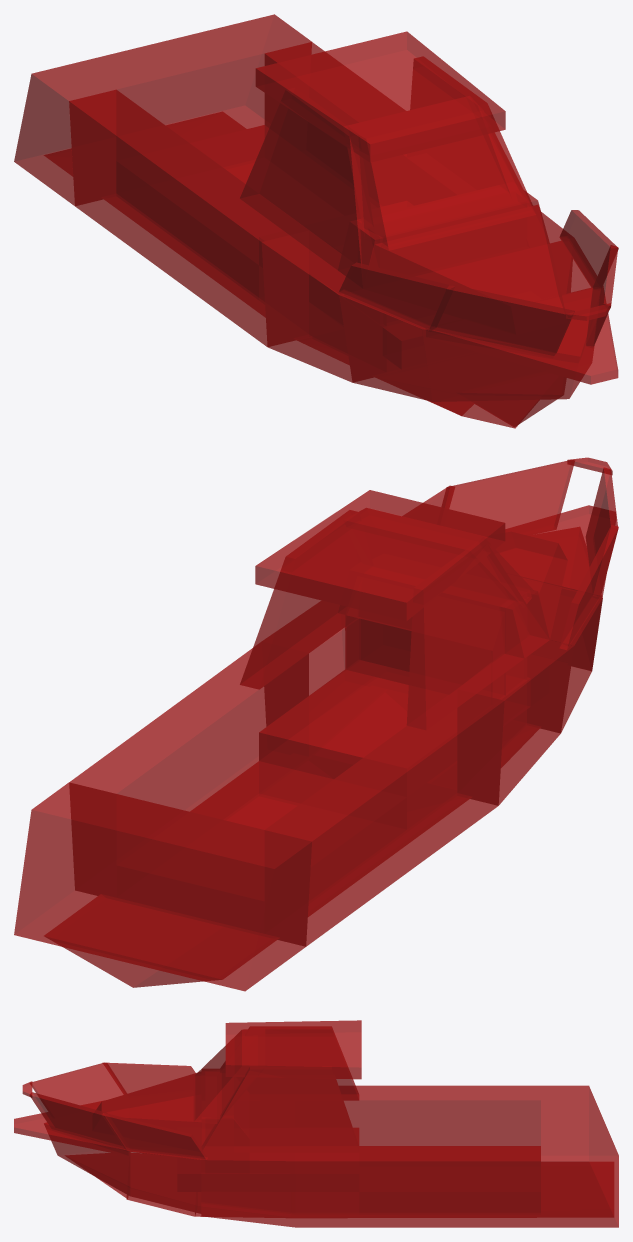
File: SM_Veh_Boat_01_Collision.fbx
The picture shows the model from 3 angles, top to bottom: view 1: azimuth 30°, elevation 25°; view 2: azimuth 150°, elevation 25°; view 3: azimuth 270°, elevation 25°; orthographic projection. The views are drawn at different scales.
Visible parts, largest first — view 1: SM_Veh_Boat_01_Collision; view 2: SM_Veh_Boat_01_Collision; view 3: SM_Veh_Boat_01_Collision.
Boxes of the visible parts, <box> form: SM_Veh_Boat_01_Collision: <box>14,14,618,428</box>; SM_Veh_Boat_01_Collision: <box>14,457,618,991</box>; SM_Veh_Boat_01_Collision: <box>14,1020,618,1227</box>.
Size of the model in its own units: 316 by 339 by 1065.
